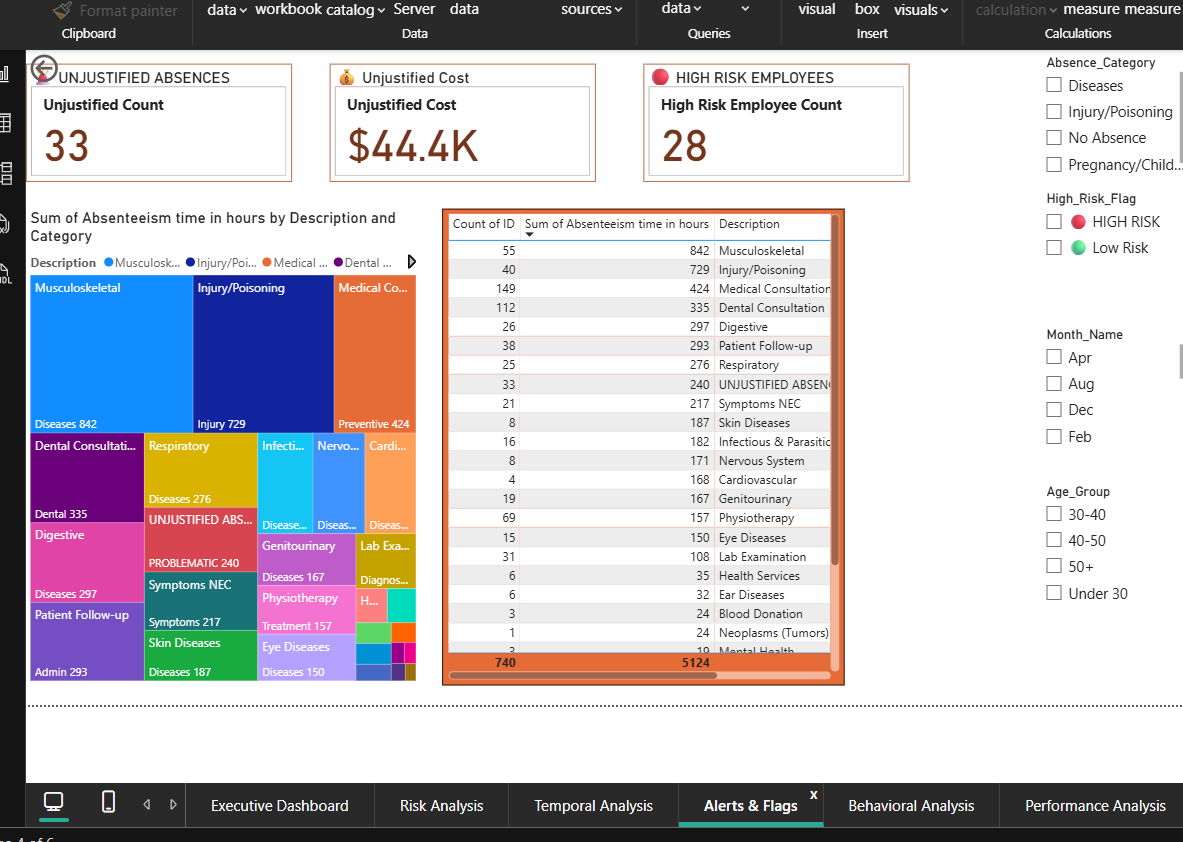

The page's visual inventory and layout, read from the dashboard file:
{"tool":"powerbi","page":{"name":"Alerts & Flags","canvas":[1280,720],"ordinal":3},"visuals":[{"type":"cardVisual","title":"🚨 UNJUSTIFIED ABSENCES","fields":{"Data":["PowerBI_Import_Data.Unjustified Count"]},"box":[0,15.7,292.2,129.7],"z":0},{"type":"cardVisual","title":"🔴 HIGH RISK EMPLOYEES","fields":{"Data":["PowerBI_Import_Data.High Risk Employee Count"]},"box":[678.5,15.7,292.2,129.7],"z":1000},{"type":"cardVisual","title":"💰 Unjustified Cost","fields":{"Data":["PowerBI_Import_Data.Unjustified Cost"]},"box":[333.5,15.7,292.2,129.7],"z":2000},{"type":"treemap","fields":{"Group":["ICD_Lookup.Description"],"Details":["ICD_Lookup.Category"],"Values":["Sum(PowerBI_Import_Data.Absenteeism time in hours)"]},"box":[0,173.9,433.3,523.1],"z":3000},{"type":"actionButton","box":[0,0,100,40],"z":4000},{"type":"tableEx","fields":{"Values":["CountNonNull(PowerBI_Import_Data.ID)","Sum(PowerBI_Import_Data.Absenteeism time in hours)","ICD_Lookup.Description","ICD_Lookup.ICD_Code","ICD_Lookup.Reason_Code"]},"box":[457.6,173.9,441.9,523.1],"z":5000},{"type":"slicer","fields":{"Values":["PowerBI_Import_Data.Absence_Category"]},"box":[1107.5,0,172.5,149.7],"z":6000},{"type":"slicer","fields":{"Values":["PowerBI_Import_Data.Age_Group"]},"box":[1107.5,470.4,172.5,149.7],"z":7000},{"type":"slicer","fields":{"Values":["PowerBI_Import_Data.Month_Name"]},"box":[1107.5,299.3,172.5,149.7],"z":8000},{"type":"slicer","fields":{"Values":["PowerBI_Import_Data.High_Risk_Flag"]},"box":[1107.5,149.7,172.5,149.7],"z":9000}]}

Visuals, with their boxes on the page's 1280x720 design canvas (x1, y1, x2, y2). These are canvas units, not pixel positions in the 1183x842 screenshot, which may show the page scaled, cropped or inside an application window:
"🚨 UNJUSTIFIED ABSENCES" cardVisual: [left=0, top=16, right=292, bottom=145]
"🔴 HIGH RISK EMPLOYEES" cardVisual: [left=678, top=16, right=971, bottom=145]
"💰 Unjustified Cost" cardVisual: [left=334, top=16, right=626, bottom=145]
treemap - ICD_Lookup.Description x ICD_Lookup.Category: [left=0, top=174, right=433, bottom=697]
actionButton: [left=0, top=0, right=100, bottom=40]
tableEx - CountNonNull(PowerBI_Import_Data.ID) x Sum(PowerBI_Import_Data.Absenteeism time in hours): [left=458, top=174, right=900, bottom=697]
slicer - PowerBI_Import_Data.Absence_Category: [left=1108, top=0, right=1280, bottom=150]
slicer - PowerBI_Import_Data.Age_Group: [left=1108, top=470, right=1280, bottom=620]
slicer - PowerBI_Import_Data.Month_Name: [left=1108, top=299, right=1280, bottom=449]
slicer - PowerBI_Import_Data.High_Risk_Flag: [left=1108, top=150, right=1280, bottom=299]
